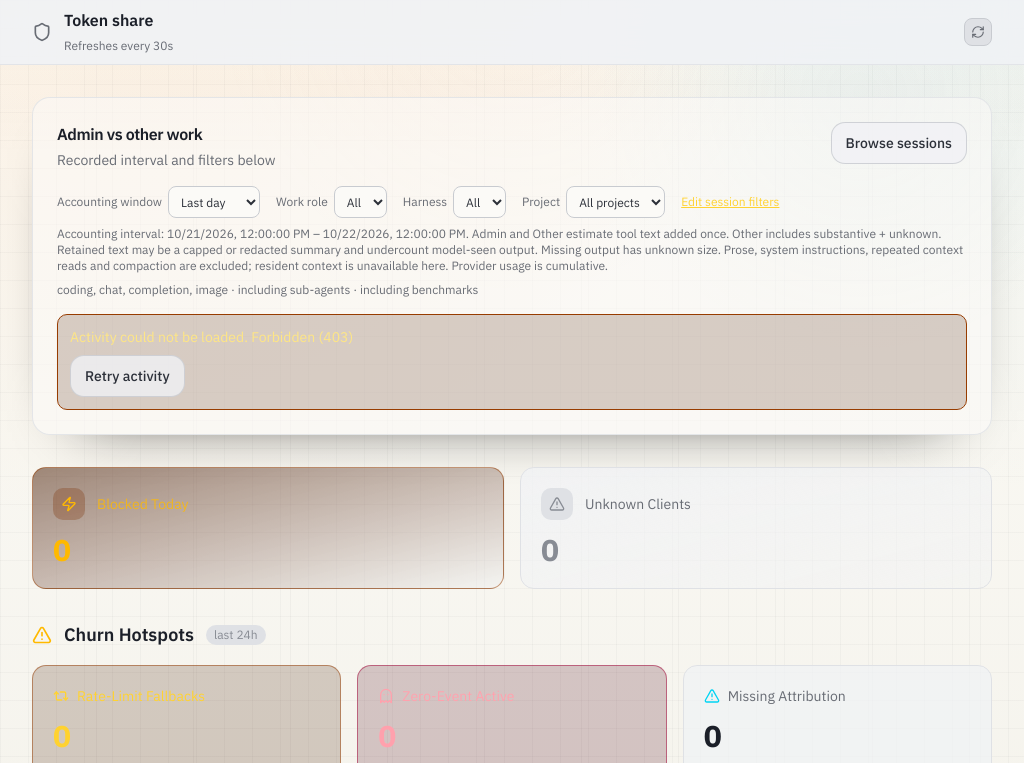
it: Activity page loading › shows an inline error, recovers on retry, and labels retained data after a failed refresh
Expected: the message shows "Activity could not be loaded", [70, 328, 248, 346]
Click the button "Retry activity" at (127, 376), box [70, 355, 185, 397]
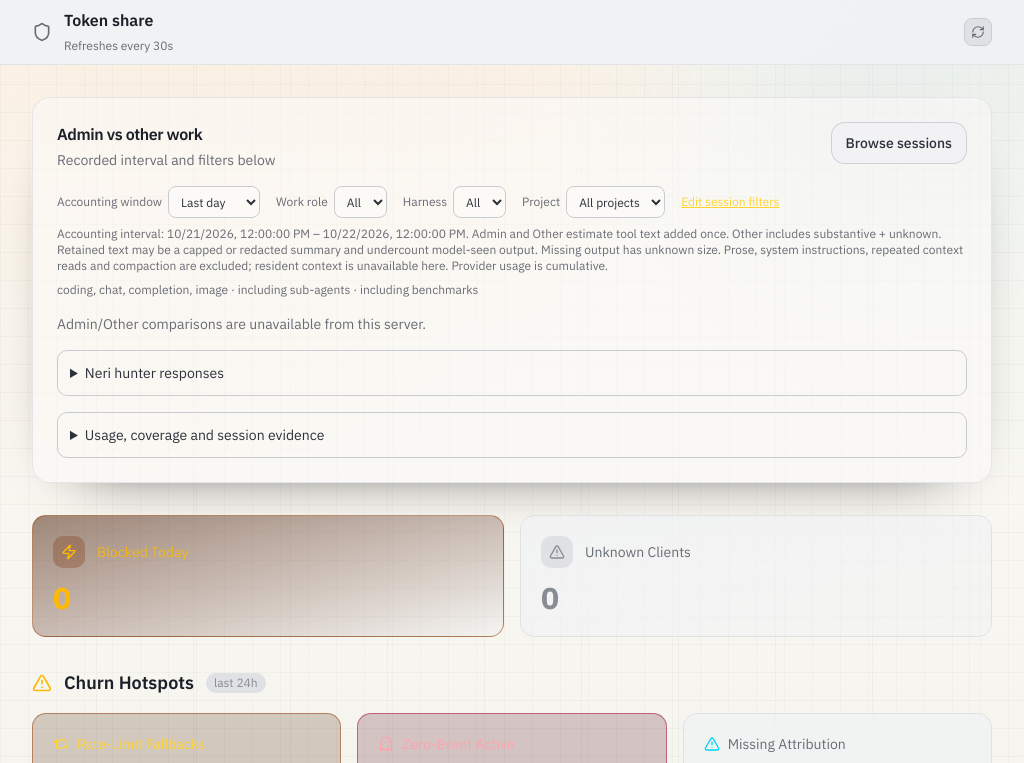
Click the button named "Refresh token share" at (978, 32), box [964, 18, 992, 46]
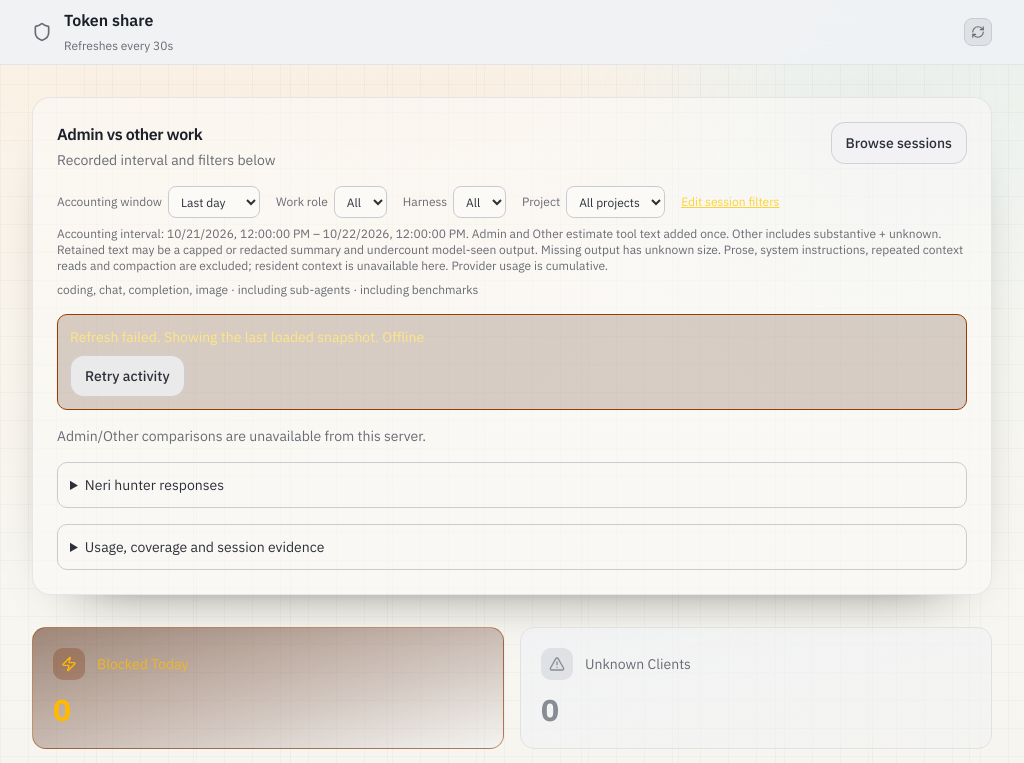
Expected: the message shows "Showing the last loaded snapshot", [70, 328, 379, 346]
